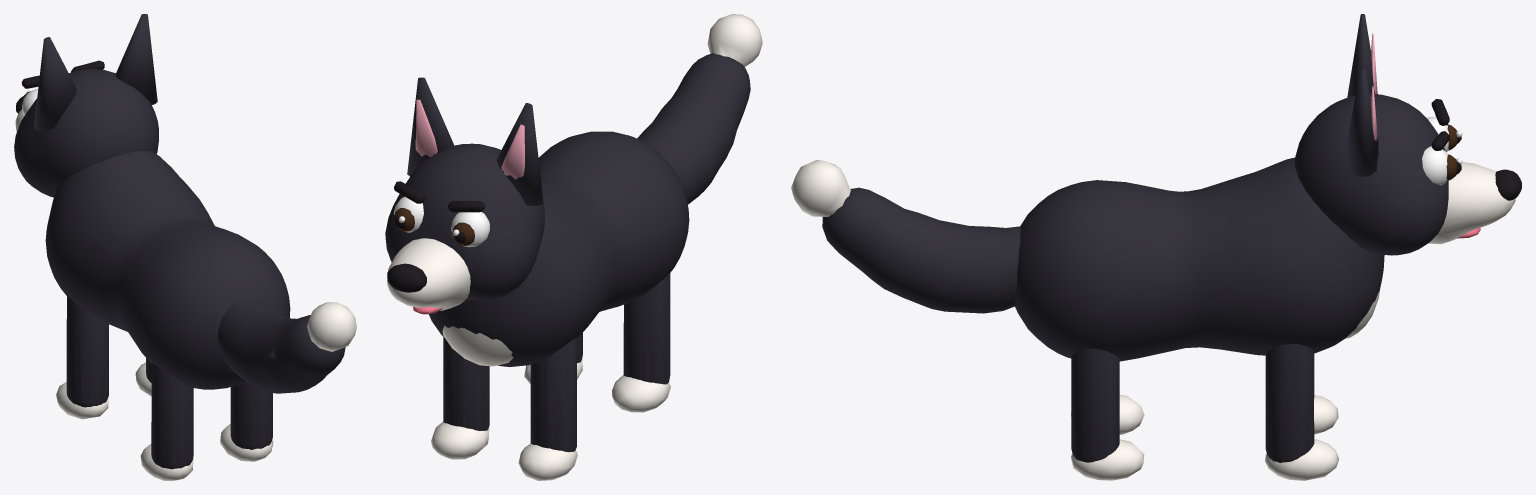
The model's file is wolf.glb.
3 views of the same model, side by side, from view 1: azimuth 30°, elevation 25°; view 2: azimuth 150°, elevation 25°; view 3: azimuth 270°, elevation 25° (orthographic). The views are drawn at different scales.
Parts seen in each view (by area): view 1: Body, Head, Tail, LegFL, LegBL, LegBR, EarL, EarR, LegFR; view 2: Body, Head, Tail, LegFL, LegBL, LegFR, EarL, EarR; view 3: Body, Head, Tail, LegFR, LegBR, EarR, EarL, LegFL, LegBL.
Part boxes in pixels (box(x1,y1,x2,y2)): Body: box(45, 151, 290, 389); Head: box(14, 60, 158, 197); Tail: box(217, 297, 356, 393); LegFL: box(56, 296, 108, 419); LegBL: box(140, 363, 193, 480); LegBR: box(220, 381, 273, 461); EarL: box(34, 37, 76, 130); EarR: box(115, 14, 157, 104); LegFR: box(135, 358, 151, 396); Body: box(429, 131, 689, 366); Head: box(385, 143, 544, 314); Tail: box(637, 14, 762, 204); LegFL: box(518, 337, 577, 480); LegBL: box(612, 273, 670, 412); LegFR: box(431, 337, 489, 459); EarL: box(496, 103, 543, 205); EarR: box(407, 77, 454, 176); Body: box(1015, 157, 1384, 361); Head: box(1294, 94, 1521, 255); Tail: box(791, 160, 1020, 313); LegFR: box(1265, 344, 1338, 480); LegBR: box(1071, 348, 1144, 480); EarR: box(1346, 67, 1378, 176); EarL: box(1347, 14, 1377, 97); LegFL: box(1265, 354, 1338, 434); LegBL: box(1071, 395, 1144, 434).
Bounding box in the file's own units: 0.6023 × 1.46 × 2.35.
